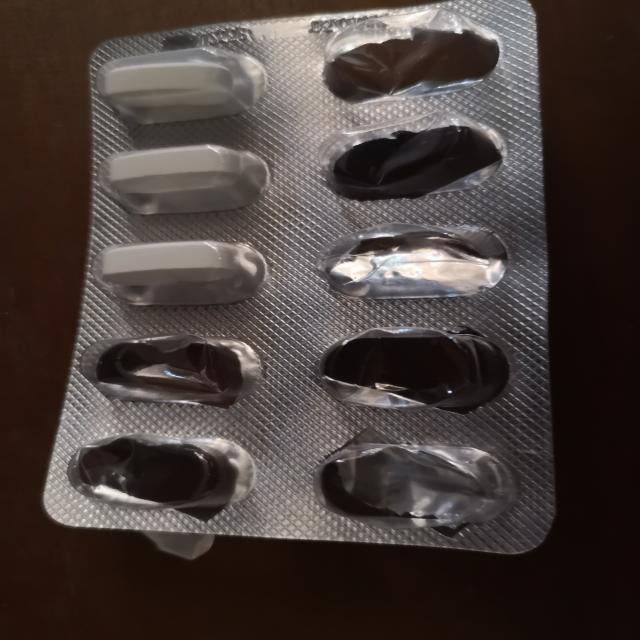Empty: (308, 435, 528, 534), (307, 323, 524, 420), (308, 112, 513, 209), (63, 427, 266, 519), (307, 220, 520, 305), (312, 13, 504, 107), (77, 327, 266, 413)
Pill: (89, 49, 275, 131), (90, 236, 274, 311), (98, 142, 273, 219)
